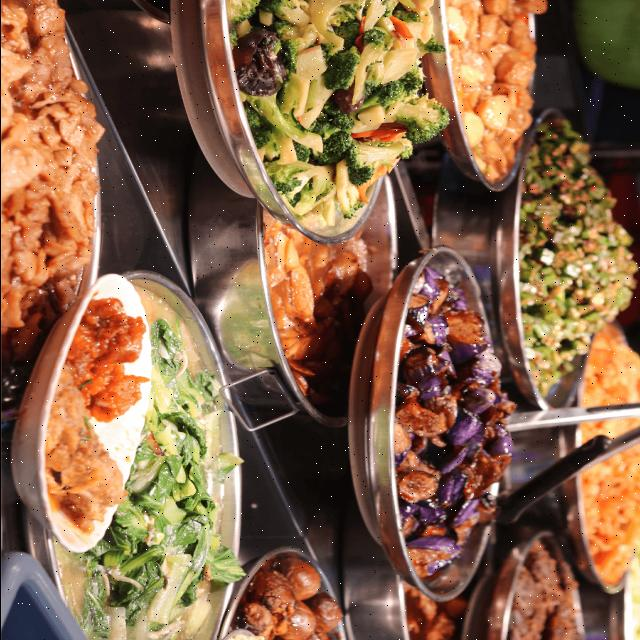Egg: (274, 558, 320, 639)
Green veg: (226, 0, 447, 230), (88, 320, 244, 639), (519, 120, 636, 394)
Non green veg: (393, 268, 515, 577)
Pork: (1, 0, 103, 361)
Tofu: (445, 0, 547, 183)
